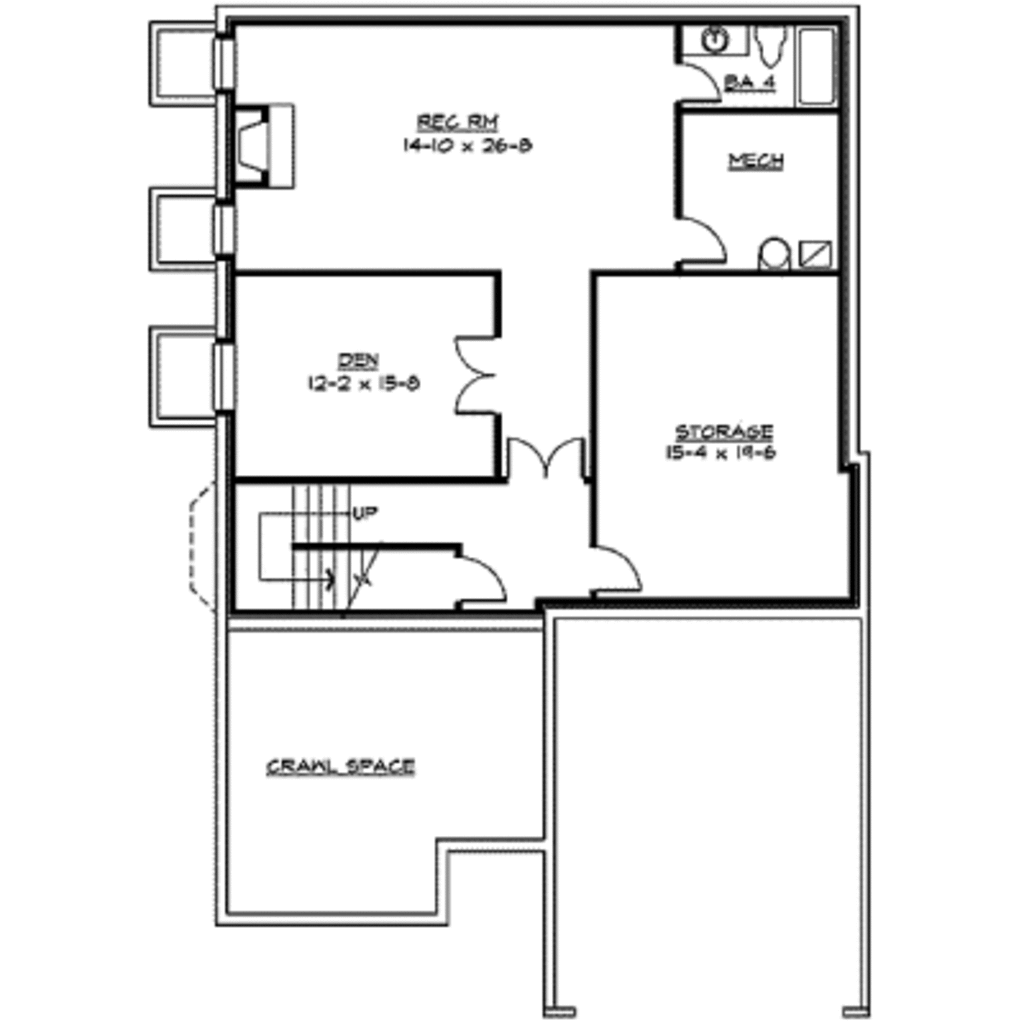door: (495, 430, 591, 489), (453, 313, 503, 419), (673, 210, 736, 272), (458, 552, 519, 616), (592, 536, 642, 600), (666, 53, 719, 107)
large_sink: (755, 13, 791, 80)
small_sink: (681, 21, 745, 53)
stairs: (230, 477, 453, 619)
tub: (791, 11, 839, 107)
